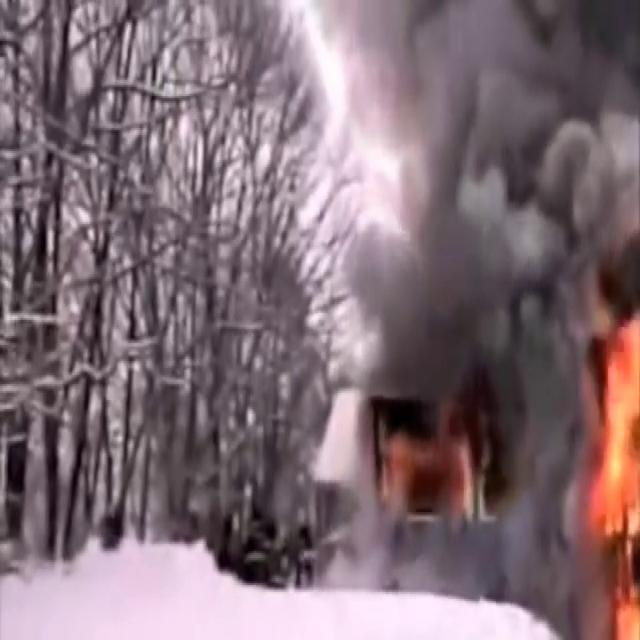Fire: (581, 295, 640, 637)
Smoke: (290, 0, 638, 581)
